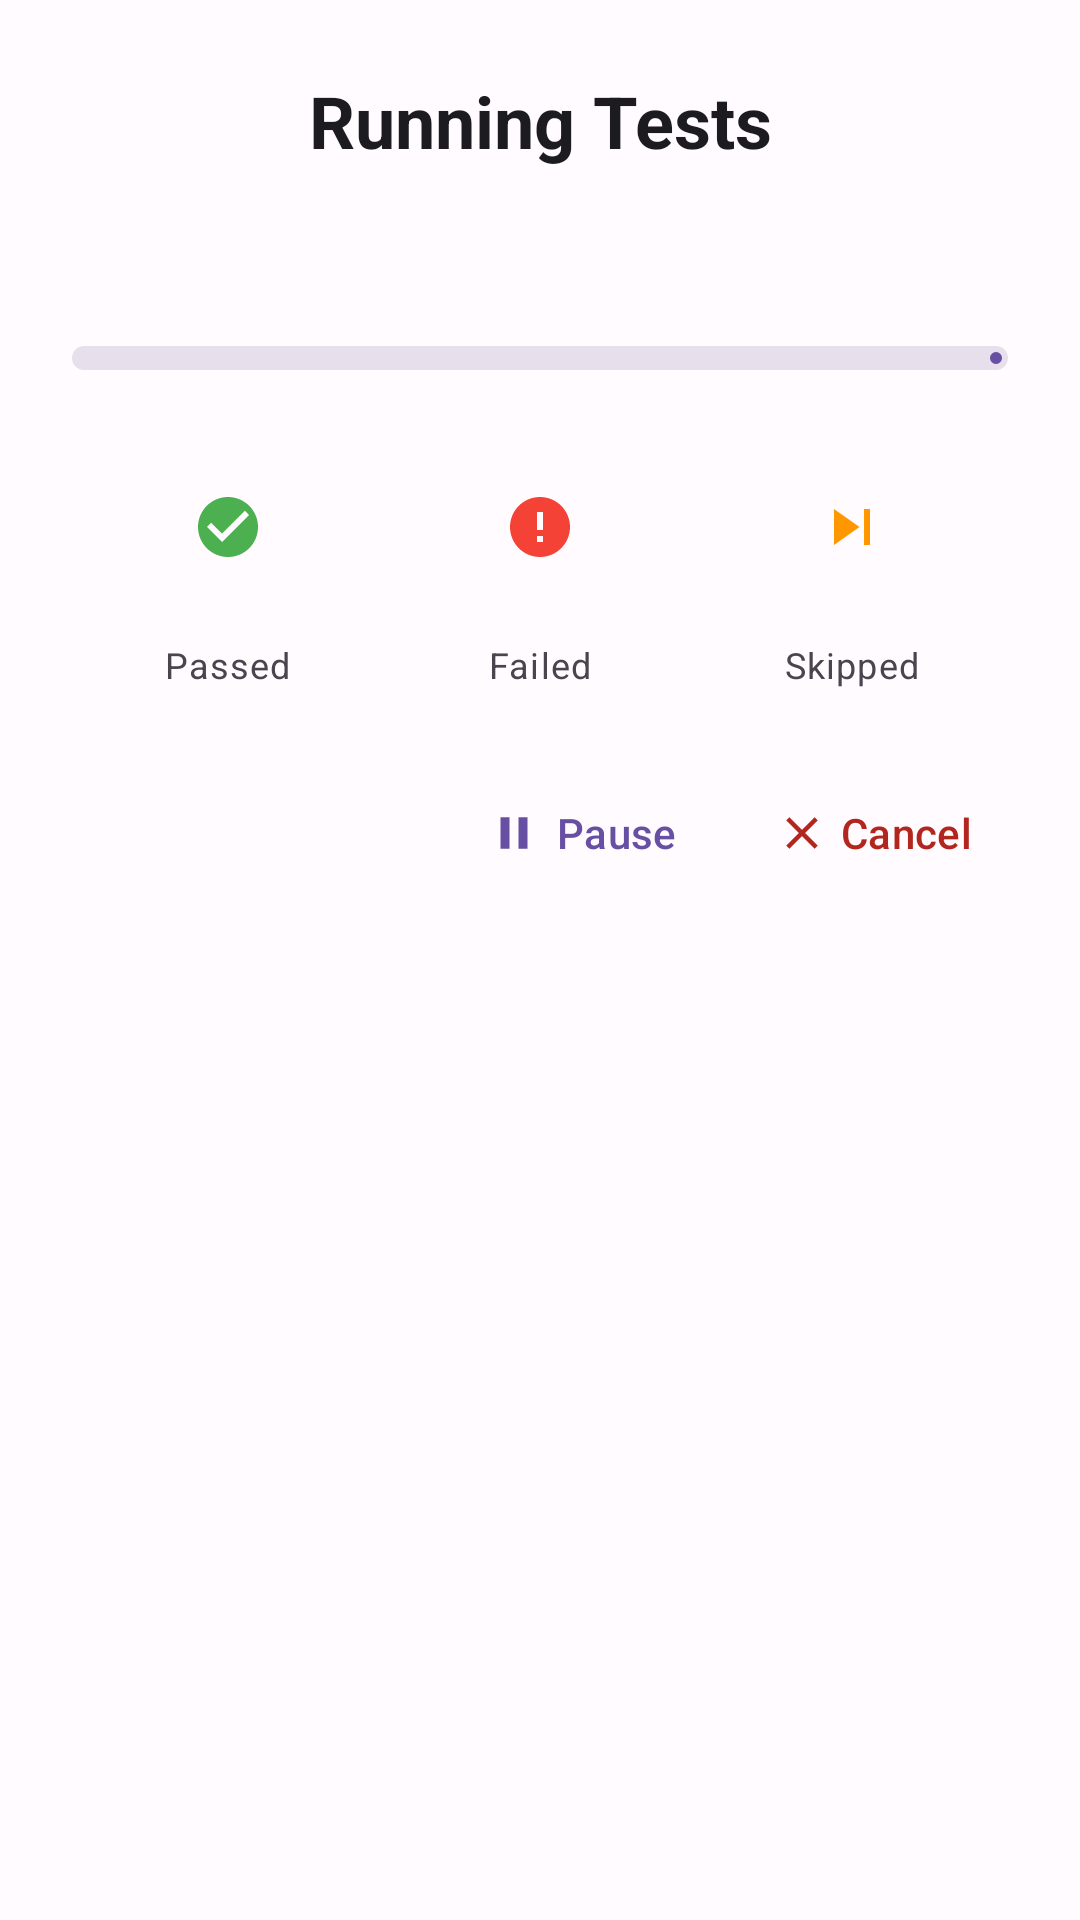

Named icons in this screenshot (1080 x 1920) and their centers, point (x, y):
check circle: point (228, 527)
error: point (540, 527)
skip next: point (852, 527)
